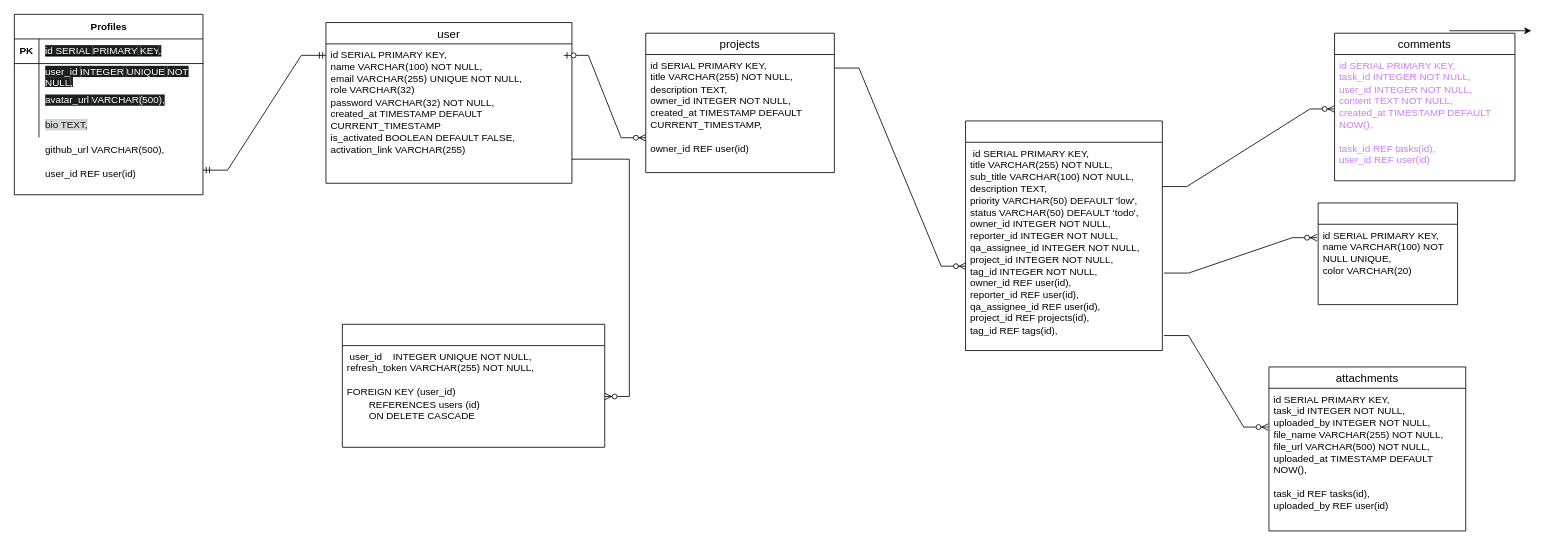
Some shapes in this 1552 by 548 pixel diagram are drawn without their labels. Each missing label, with the box of its shape:
tags: (1317, 202, 1458, 305)
Tasks: (965, 120, 1162, 351)
Tokens: (342, 323, 605, 447)
